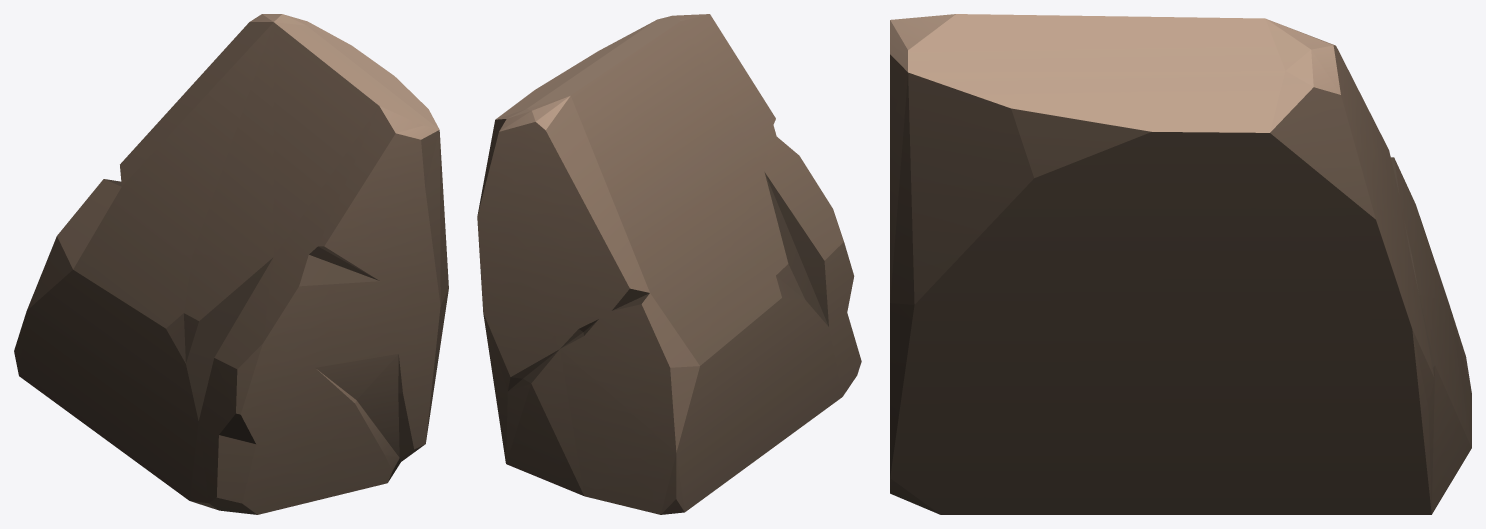
Rendered from Rock_Medium_3B.fbx.
3 renders of one model, left to right at view 1: azimuth 30°, elevation 25°; view 2: azimuth 150°, elevation 25°; view 3: azimuth 270°, elevation 25°, orthographic. The views are drawn at different scales.
Visible parts, largest first — view 1: Rock_Medium_3B; view 2: Rock_Medium_3B; view 3: Rock_Medium_3B.
Part boxes in pixels (x1,y1,x2,y2): Rock_Medium_3B: (14,14,448,514); Rock_Medium_3B: (477,14,861,514); Rock_Medium_3B: (890,14,1471,514).
Size of the model in its own units: 1.45 by 1.83 by 1.97.
